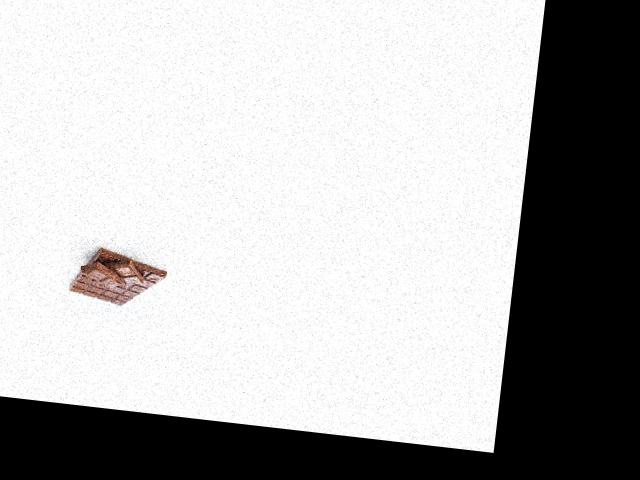chocolate: (66, 240, 170, 315)
